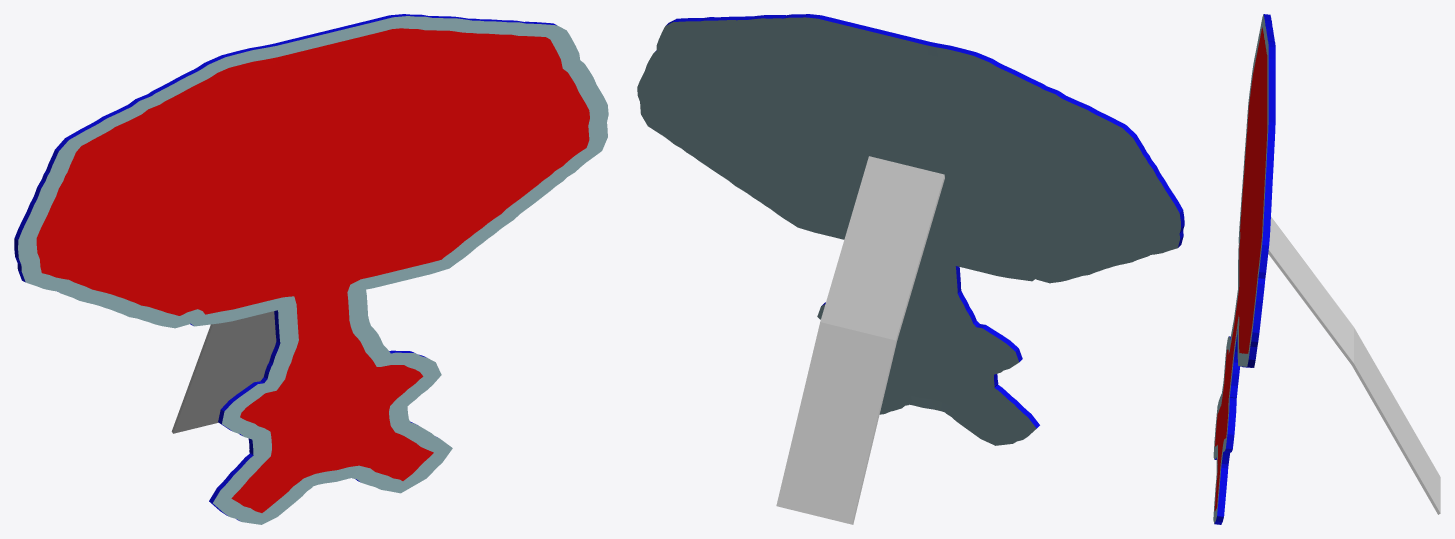
The model's file is table cardboard test.fbx.
3 renders of one model, left to right at view 1: azimuth 30°, elevation 25°; view 2: azimuth 150°, elevation 25°; view 3: azimuth 270°, elevation 25°, orthographic. The views are drawn at different scales.
Parts seen in each view (by area): view 1: Plane, Plane.002; view 2: Plane, Plane.002, Plane.001; view 3: Plane, Plane.002, Plane.001.
Boxes of the visible parts, x1,y1,x2,y2 form: Plane: (14,14,608,524); Plane.002: (171,311,276,433); Plane: (637,14,1184,445); Plane.002: (776,322,896,524); Plane.001: (820,156,944,340); Plane: (1213,14,1275,524); Plane.002: (1351,327,1440,514); Plane.001: (1268,217,1353,364).
Size of the model in its own units: 337 by 248 by 123.
